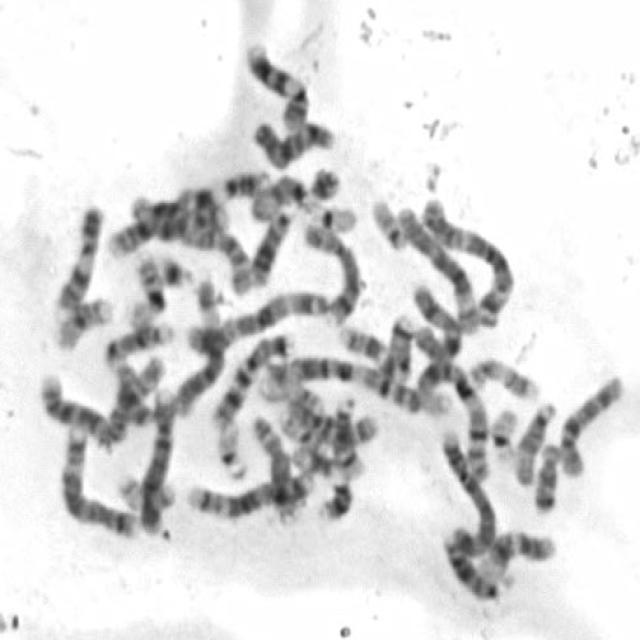A1: (252, 348, 455, 411), (408, 358, 492, 483)
A2: (116, 208, 252, 299), (32, 364, 128, 450)
A3: (414, 189, 520, 333), (182, 280, 331, 358)
B4: (434, 422, 499, 560), (135, 380, 179, 538)
B5: (54, 417, 142, 541), (182, 465, 315, 521)
C10: (554, 366, 628, 479), (275, 395, 382, 446)
C11: (286, 434, 355, 524), (127, 188, 230, 238)
C12: (475, 521, 561, 581), (174, 173, 268, 224)
C6: (393, 197, 485, 335), (171, 270, 225, 418)
C7: (205, 324, 296, 429), (334, 307, 428, 381)
C8: (298, 214, 365, 327), (246, 408, 300, 524)
C9: (46, 195, 106, 319), (239, 34, 311, 132)
D13: (436, 524, 504, 603), (244, 202, 295, 286)
D14: (99, 314, 176, 368), (327, 389, 366, 480)
D15: (509, 394, 559, 488), (243, 166, 313, 223)
E16: (48, 288, 116, 352), (122, 242, 168, 328)
E17: (460, 349, 540, 401), (254, 369, 326, 412)
E18: (262, 362, 322, 413), (528, 435, 564, 516)
F19: (303, 195, 361, 234), (485, 402, 519, 464)
F20: (111, 465, 178, 514), (278, 418, 326, 454)
G21: (151, 246, 196, 290), (314, 162, 352, 205)
G22: (365, 190, 410, 252), (210, 414, 251, 482)
X: (247, 110, 338, 170), (406, 279, 463, 361)
